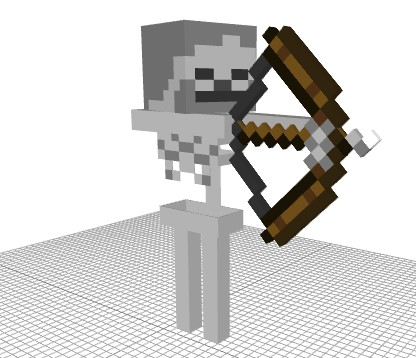skeleton: (129, 15, 288, 207)
